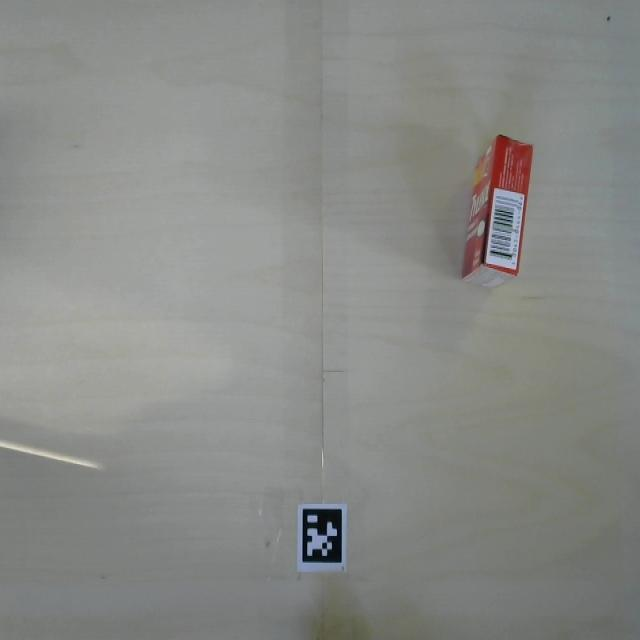tylenol: (444, 121, 538, 310)
